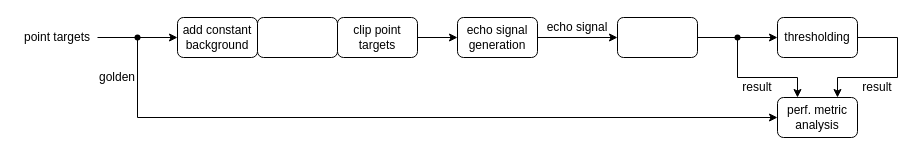
The diagram is 923 pixels wide and 155 high, and some of its shapes have lost their labels. The shapes that lost their labels are listed below. From the top down, each one's box as (x1, y1, x2, y2) in pixels, then its label:
(256, 16, 338, 58): multiply speckle
(616, 16, 698, 58): CSA
